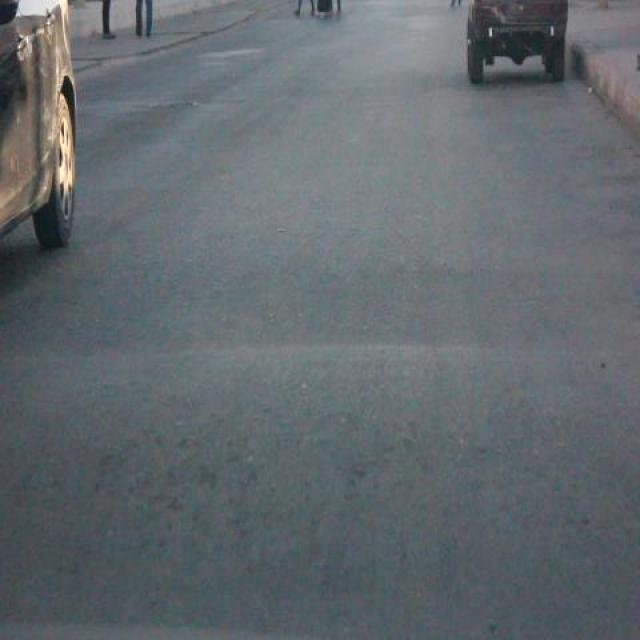Unmarked Bump: (1, 353, 640, 639)
